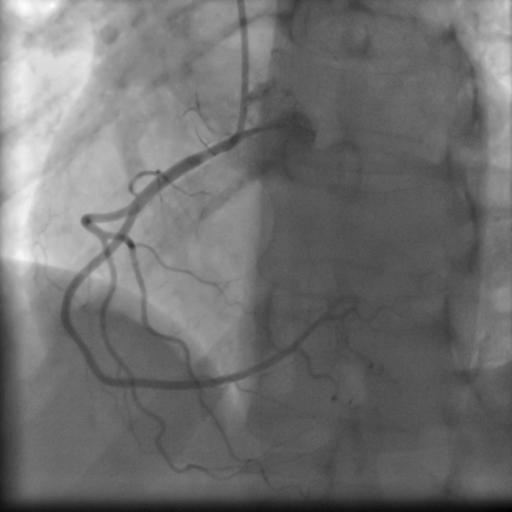Stenosis: (70, 320, 98, 372)
